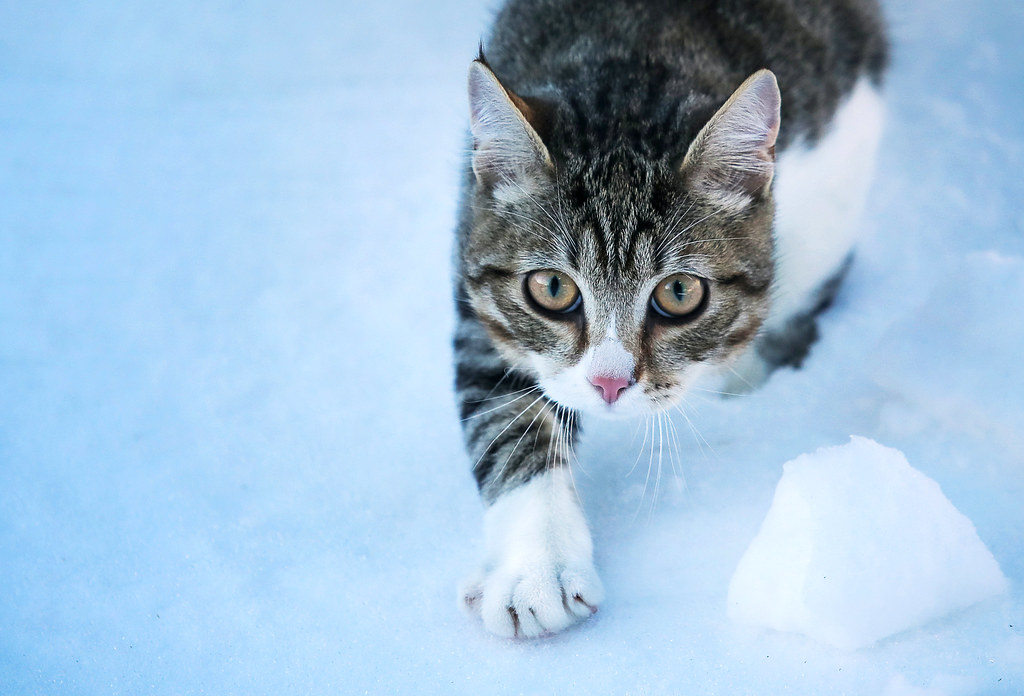cat-face: (435, 44, 800, 522)
